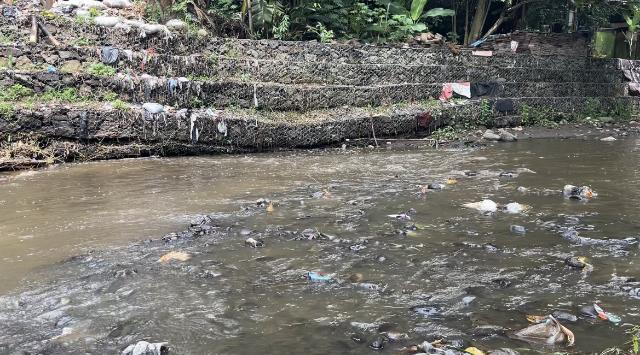Sampah Anorganik: (515, 316, 569, 351), (34, 324, 99, 347), (563, 182, 601, 202), (589, 304, 622, 326), (457, 201, 498, 215), (300, 267, 329, 284), (506, 201, 530, 217), (385, 212, 413, 221), (443, 178, 461, 187)
Sampah Organik: (428, 342, 485, 355), (151, 251, 192, 266), (397, 224, 427, 238), (316, 185, 338, 199), (158, 232, 181, 242), (264, 202, 278, 212), (421, 188, 430, 194)
